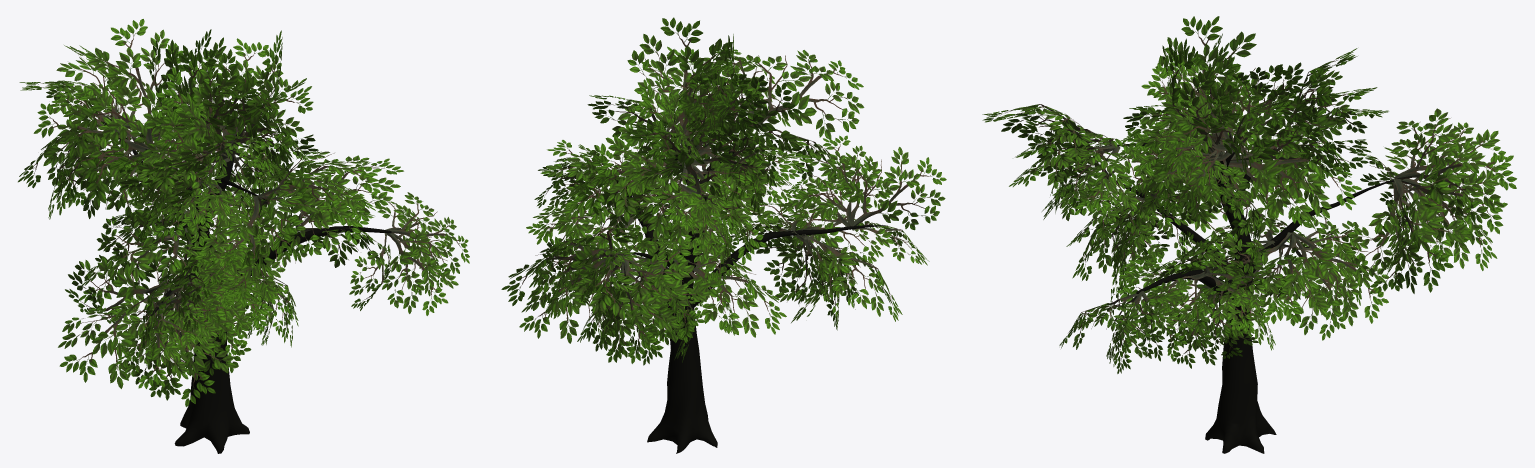
File: Tree01.fbx
The picture shows the model from 3 angles, left to right: view 1: azimuth 30°, elevation 25°; view 2: azimuth 150°, elevation 25°; view 3: azimuth 270°, elevation 25°; orthographic projection. The views are drawn at different scales.
Parts seen in each view (by area): view 1: Group14749, Group14741, Group14752, Group14739, Group14744, Group14751, Group14740, Group14736, Group14734, Group14729, trunk_low, Group14750 (+8 smaller); view 2: Group14752, Group14732, Group14740, Group14743, Group14749, Group14751, Group14733, Group14741, Group14739, trunk_low, Group14745, Group14734 (+7 smaller); view 3: Group14733, Group14751, Group14746, Group14741, Group14748, Group14745, Group14750, Group14743, trunk_low, Group14744, Group14752, Group14732 (+8 smaller).
Boxes of the visible parts, left/top/right/bottom form: Group14749: left=33, top=19, right=224, bottom=224; Group14741: left=194, top=151, right=381, bottom=306; Group14752: left=109, top=30, right=290, bottom=215; Group14739: left=58, top=256, right=255, bottom=406; Group14744: left=349, top=192, right=469, bottom=315; Group14751: left=147, top=29, right=313, bottom=183; Group14740: left=115, top=248, right=258, bottom=388; Group14736: left=105, top=153, right=270, bottom=266; Group14734: left=78, top=210, right=285, bottom=326; Group14729: left=109, top=257, right=273, bottom=361; trunk_low: left=174, top=134, right=249, bottom=453; Group14750: left=170, top=85, right=297, bottom=241; Group14752: left=587, top=17, right=801, bottom=231; Group14732: left=519, top=233, right=711, bottom=363; Group14740: left=779, top=135, right=946, bottom=265; Group14743: left=564, top=141, right=775, bottom=267; Group14749: left=597, top=122, right=751, bottom=287; Group14751: left=590, top=34, right=736, bottom=221; Group14733: left=501, top=227, right=680, bottom=349; Group14741: left=665, top=49, right=864, bottom=179; Group14739: left=751, top=208, right=902, bottom=330; trunk_low: left=647, top=146, right=717, bottom=453; Group14745: left=526, top=140, right=646, bottom=292; Group14734: left=615, top=227, right=786, bottom=362; Group14733: left=1344, top=108, right=1516, bottom=293; Group14751: left=1123, top=16, right=1341, bottom=233; Group14746: left=1196, top=206, right=1388, bottom=340; Group14741: left=982, top=104, right=1169, bottom=215; Group14748: left=1131, top=55, right=1262, bottom=223; Group14745: left=1117, top=249, right=1296, bottom=350; Group14750: left=1116, top=62, right=1252, bottom=223; Group14743: left=1155, top=129, right=1361, bottom=267; trunk_low: left=1205, top=147, right=1276, bottom=453; Group14744: left=1059, top=280, right=1197, bottom=373; Group14752: left=1162, top=33, right=1296, bottom=196; Group14732: left=1344, top=147, right=1497, bottom=277.
Bounding box in the file's own units: 1002 × 1024 × 1200.
